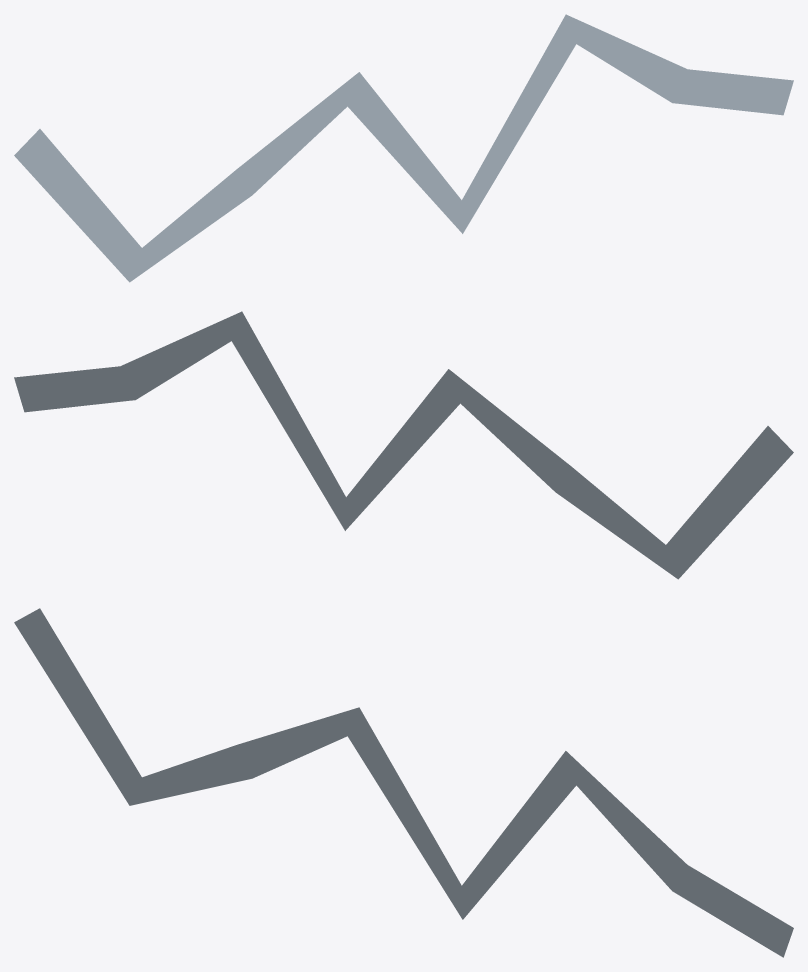
The model's file is ElementalGround_Electro_GroundArc58.fbx.
3 renders of one model, top to bottom at view 1: azimuth 30°, elevation 25°; view 2: azimuth 150°, elevation 25°; view 3: azimuth 330°, elevation 25°, orthographic.
Parts seen in each view (by area): view 1: PART_GroundArc58; view 2: PART_GroundArc58; view 3: PART_GroundArc58.
Boxes of the visible parts, <box> form: PART_GroundArc58: <box>14,14,793,282</box>; PART_GroundArc58: <box>14,311,793,579</box>; PART_GroundArc58: <box>14,608,793,957</box>.
Size of the model in its own units: 71.67 by 18.34 by 2.99e-06.
